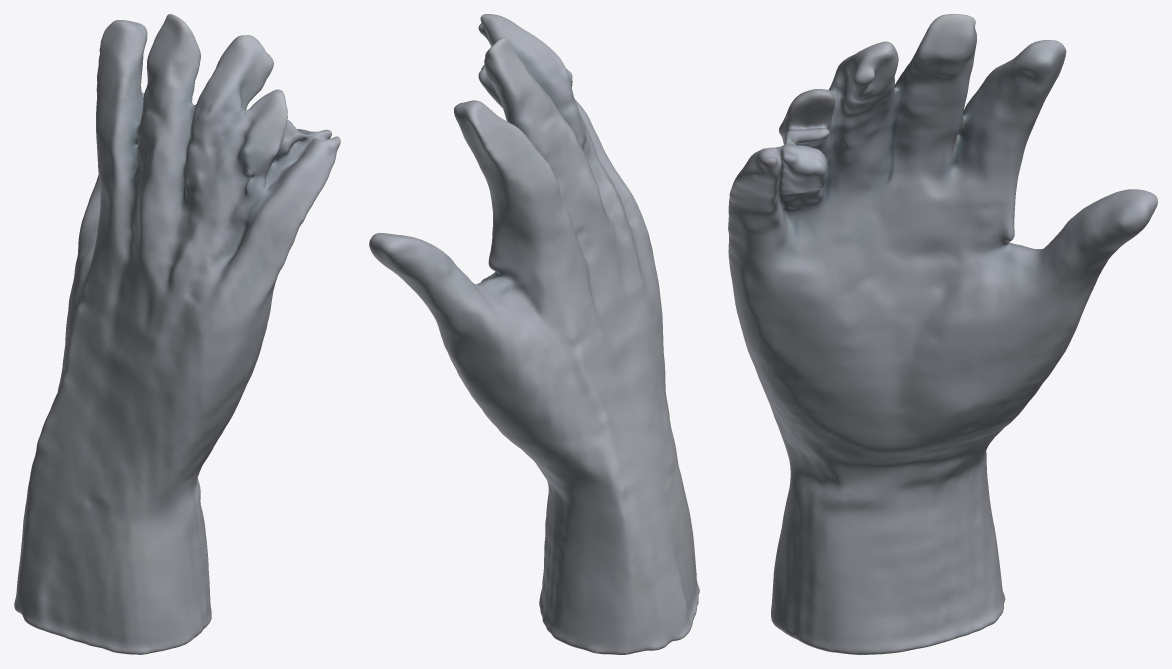
The model's file is f2e0b29e1a60_sculpture_hands__3d.fbx.
3 views of the same model, side by side, from view 1: azimuth 30°, elevation 25°; view 2: azimuth 150°, elevation 25°; view 3: azimuth 270°, elevation 25° (orthographic). The views are drawn at different scales.
Visible parts, largest first — view 1: high_poly; view 2: high_poly; view 3: high_poly.
Part boxes in pixels (left/top/right/bottom): high_poly: left=14, top=14, right=340, bottom=654; high_poly: left=369, top=14, right=699, bottom=654; high_poly: left=728, top=14, right=1157, bottom=654.
Bounding box in the file's own units: 46.98 × 100 × 59.75.
